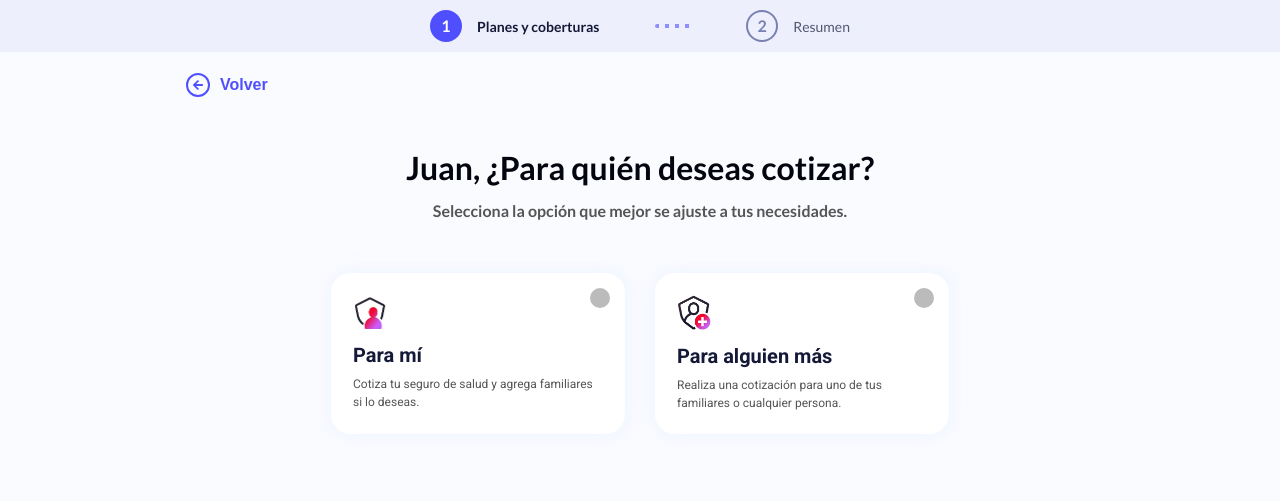
Test: InsurancePage › Visualización de planes › debe mostrar error si falla la carga de planes
Note: Seleccionar una opción para que se muestre el error
Click the radio button named "para mí" at (600, 298), box [590,288,610,308]
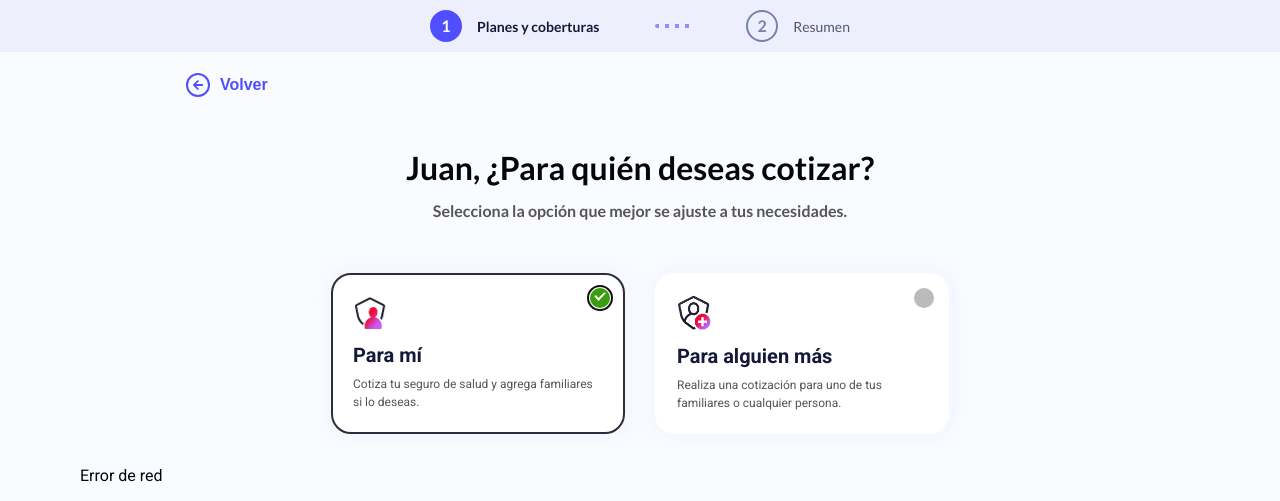
expect the message "Error de red" is shown: met, box [80,466,163,485]
